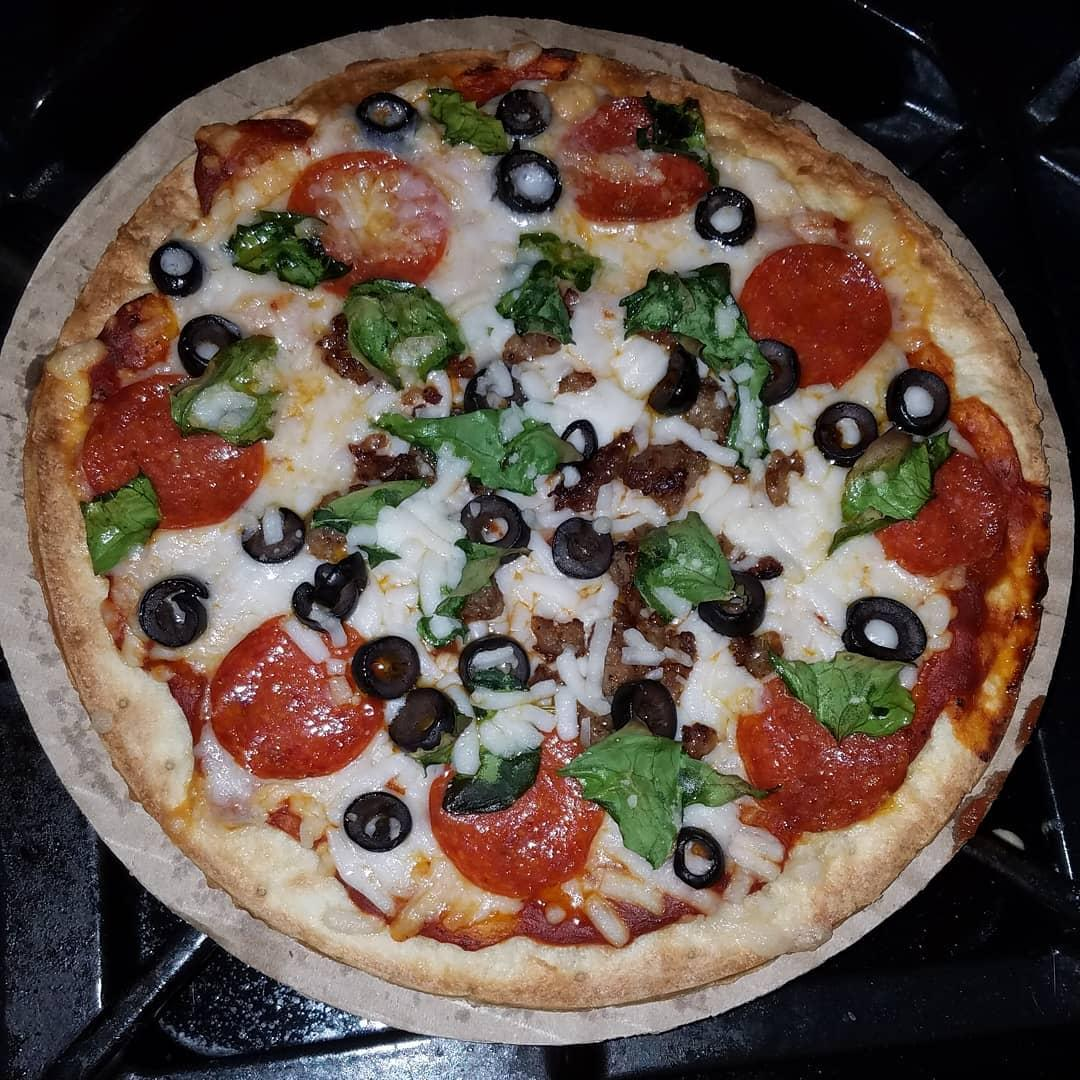Basil: (605, 247, 785, 453), (357, 389, 594, 488), (575, 717, 729, 852), (635, 501, 764, 620), (821, 425, 957, 530), (347, 287, 473, 386), (789, 645, 916, 738), (511, 239, 589, 346)
Olives: (357, 619, 533, 744), (455, 491, 618, 578), (817, 365, 960, 454), (829, 569, 936, 658), (281, 537, 370, 620), (363, 643, 434, 746), (137, 577, 209, 654), (671, 825, 729, 892), (331, 793, 418, 837), (361, 107, 450, 149), (495, 161, 568, 212), (473, 499, 529, 565), (159, 239, 221, 294), (565, 513, 614, 582), (181, 325, 245, 377), (515, 87, 538, 127)
Pepperoni: (197, 597, 374, 761), (737, 237, 910, 388), (437, 725, 593, 888), (729, 661, 890, 817), (87, 373, 252, 514), (565, 87, 708, 217), (285, 161, 440, 277), (893, 433, 1012, 553)
Pizza: (11, 13, 1074, 1004)
